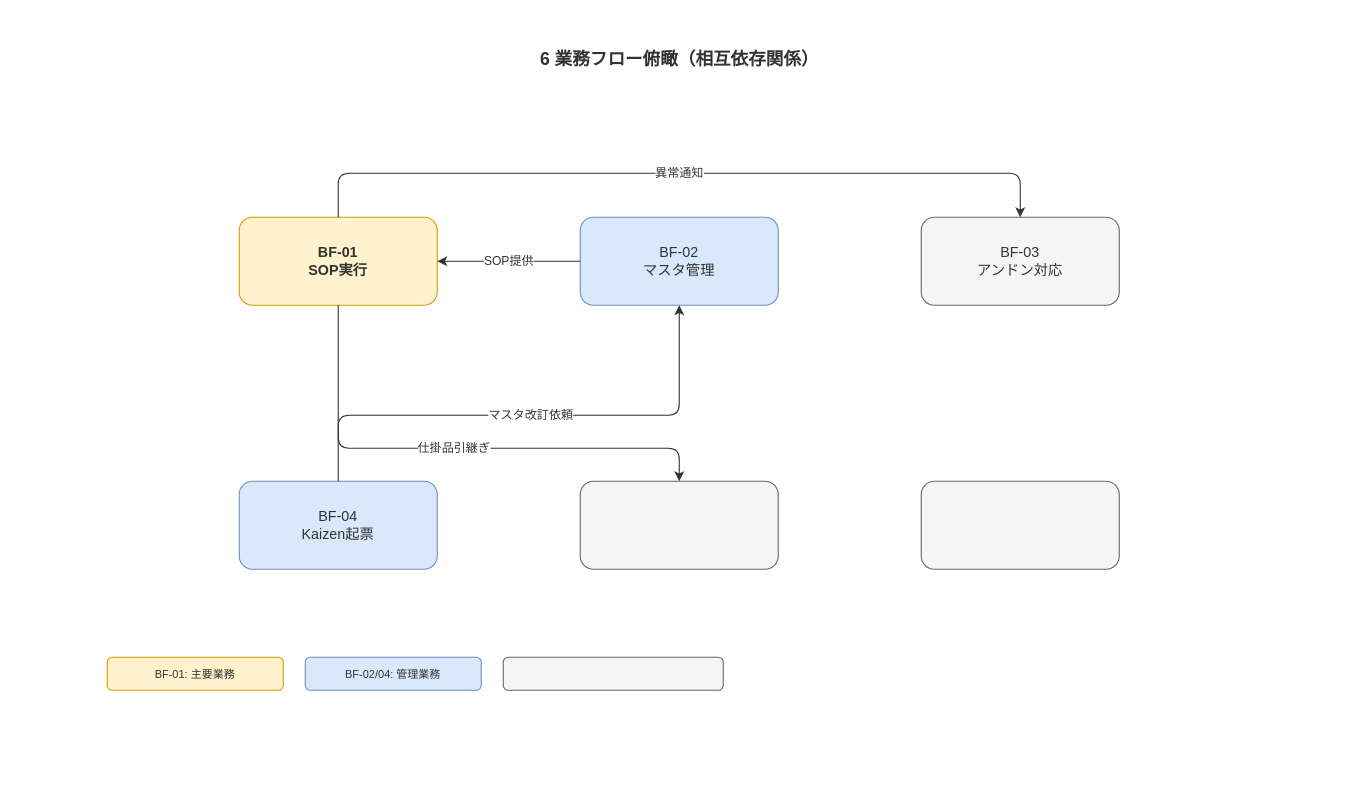
Some shapes in this 1357 by 807 pixel diagram are drawn without their labels. Each missing label, with the centre of its shape:
BF-03/05/06: 支援業務: the point at 612,673
BF-05 夜勤交代: the point at 678,524
BF-06 実習生教育: the point at 1019,524
